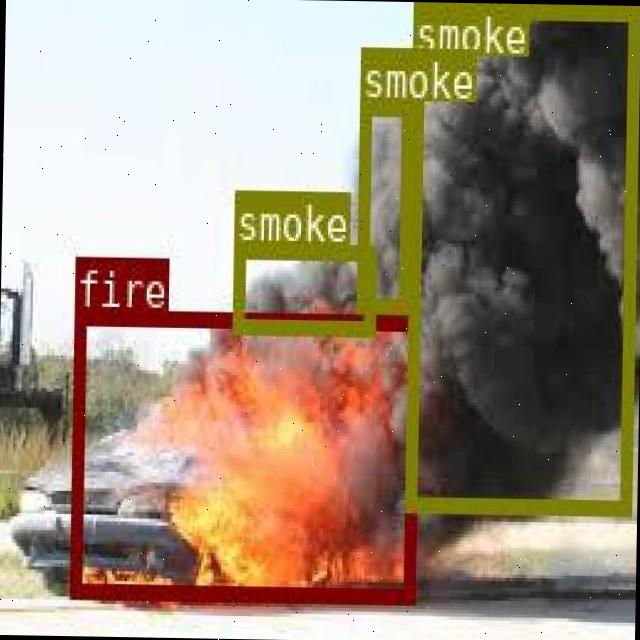fire: (67, 306, 417, 600)
smoke: (403, 2, 638, 510), (230, 242, 374, 332), (354, 98, 410, 310)
